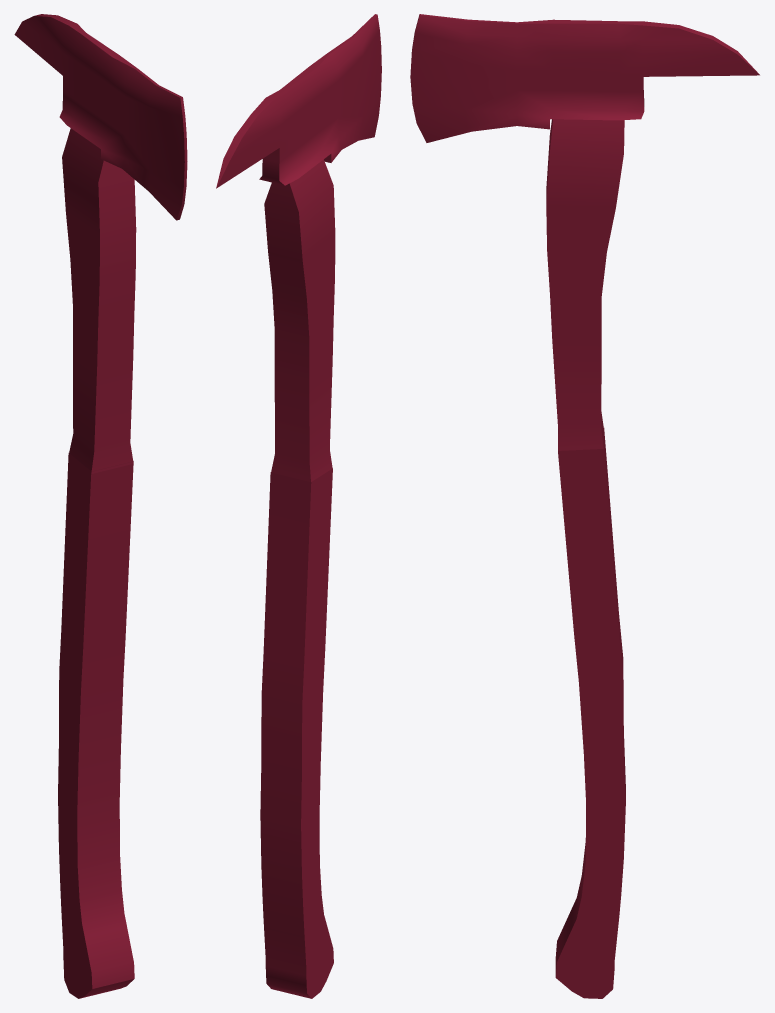
Rendered from SM_ FE_Props_Axe.fbx.
3 views of the same model, side by side, from view 1: azimuth 30°, elevation 25°; view 2: azimuth 150°, elevation 25°; view 3: azimuth 270°, elevation 25° (orthographic). The views are drawn at different scales.
Parts seen in each view (by area): view 1: Aex_Head; view 2: Aex_Head; view 3: Aex_Head.
Boxes of the visible parts, x1,y1,x2,y2 form: Aex_Head: (14,14,187,998); Aex_Head: (216,14,381,998); Aex_Head: (410,14,759,998).
Size of the model in its own units: 4.71 by 101 by 33.05.
